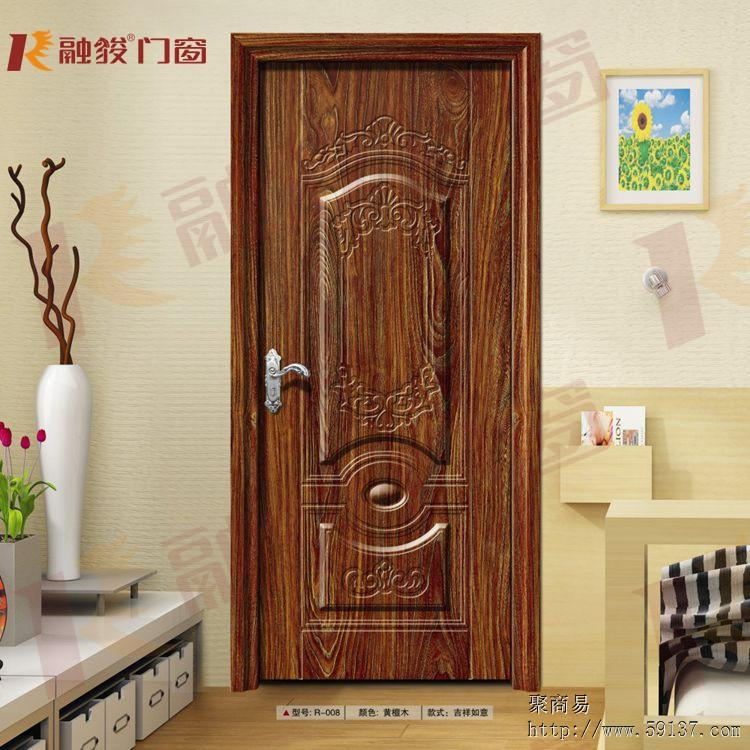door: (257, 66, 514, 685)
